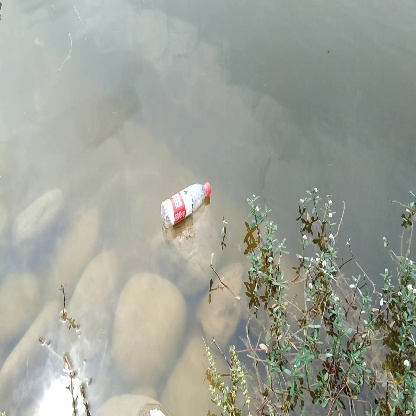bottle: (157, 179, 215, 234)
